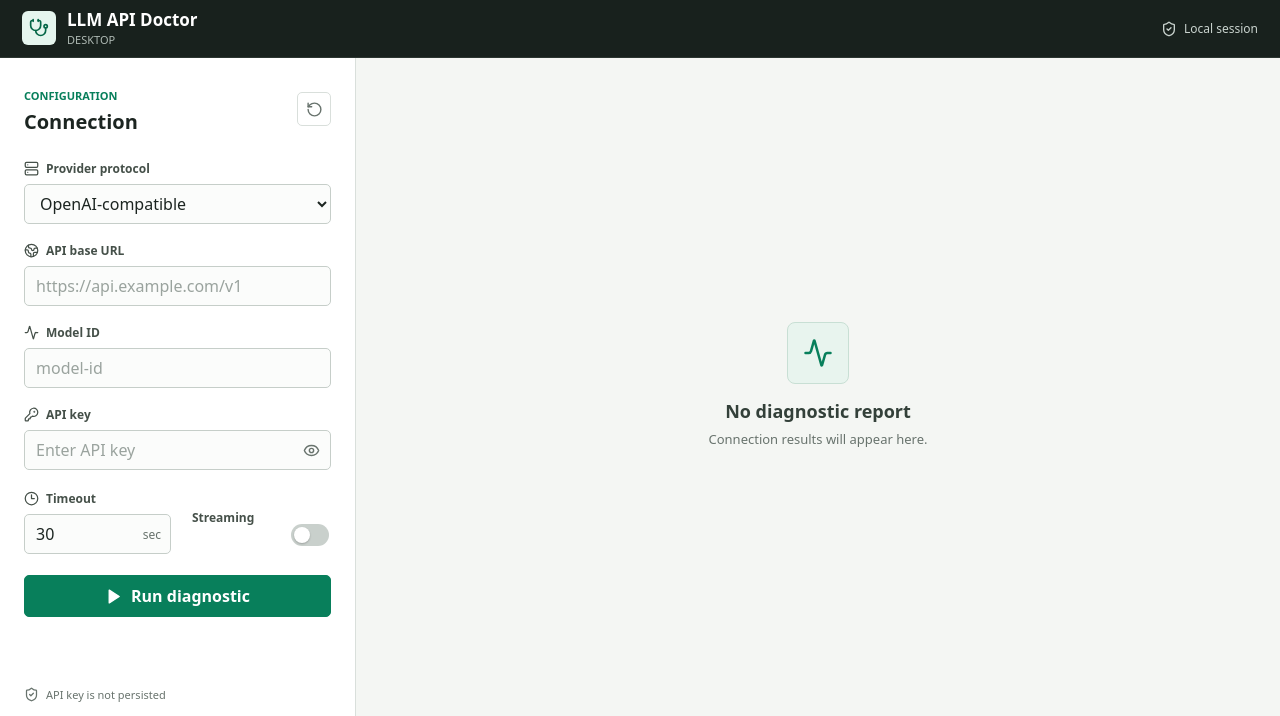
Scenario: desktop App › validates required fields before invoking the bridge
Step 1. Click the button "Run diagnostic" → [178, 596], box [24,575,331,617]
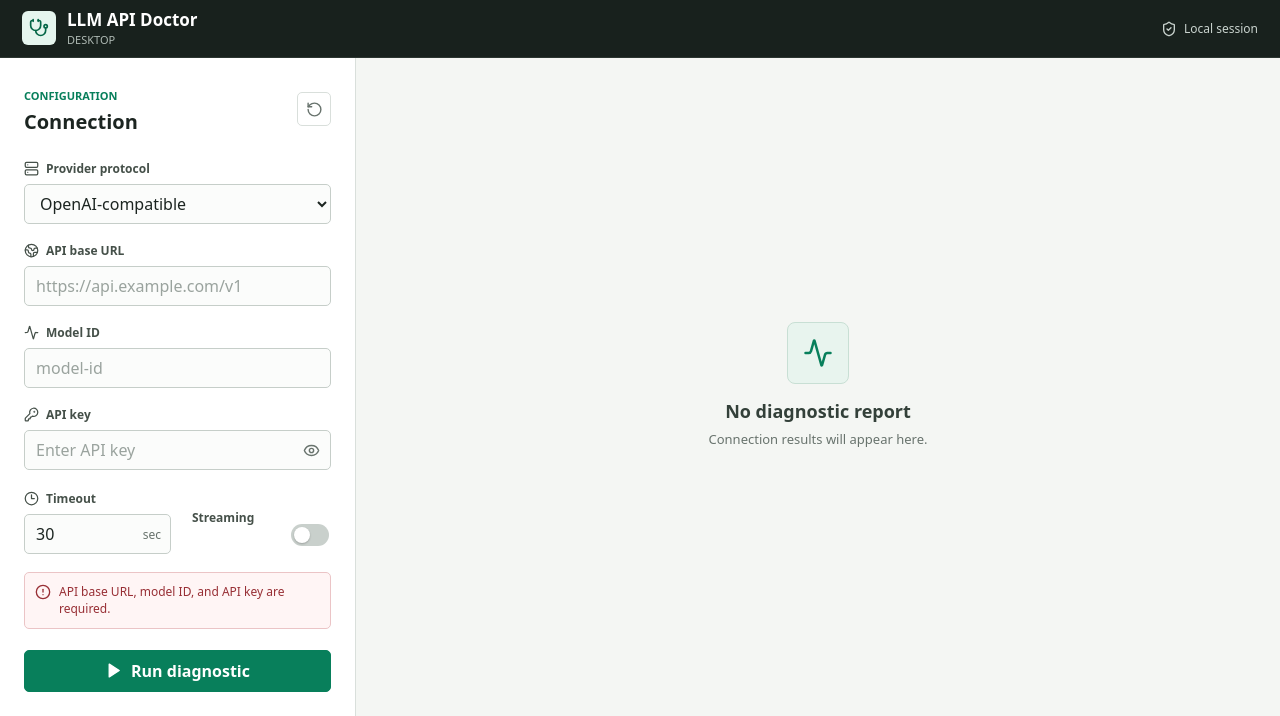
Now the message shows "required", box [59,583,284,617]
